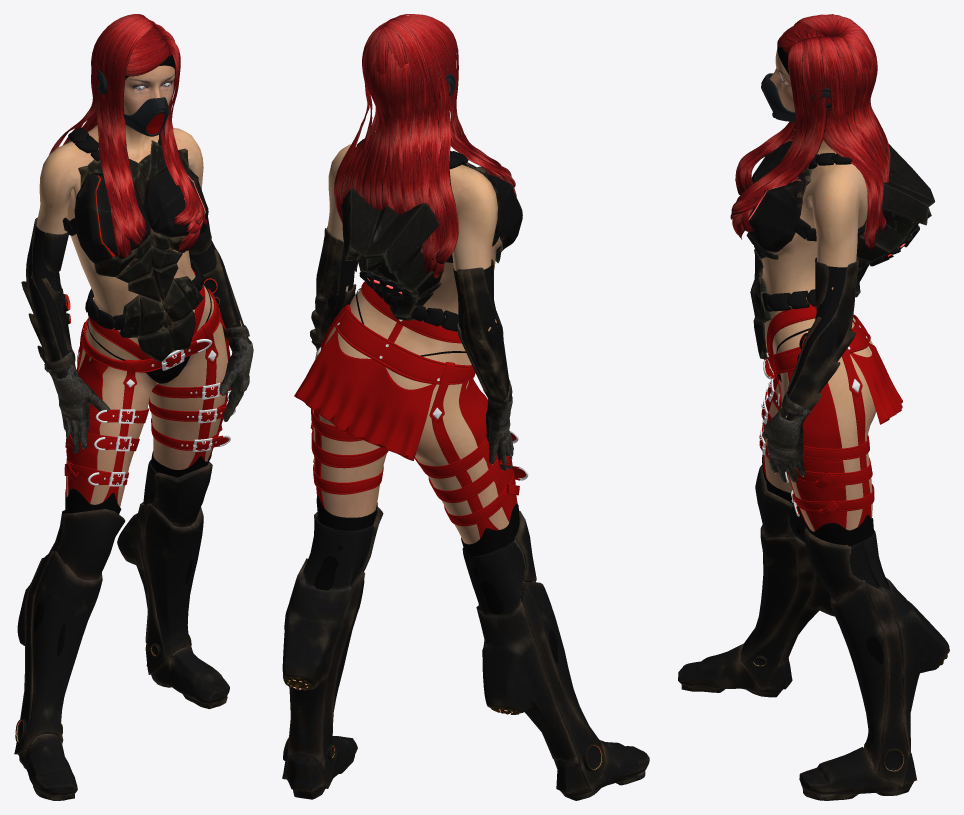
File: ninja-red.glb
3 renders of one model, left to right at view 1: azimuth 30°, elevation 25°; view 2: azimuth 150°, elevation 25°; view 3: azimuth 270°, elevation 25°, orthographic. The views are drawn at different scales.
Parts seen in each view (by area): view 1: Resize; view 2: Resize; view 3: Resize.
Boxes of the visible parts, bbox=[...] form: Resize: bbox=[14, 14, 253, 800]; Resize: bbox=[282, 14, 649, 800]; Resize: bbox=[678, 14, 949, 800].
Size of the model in its own units: 0.6716 by 1.75 by 0.5811.
69 materials, 61 textured.
